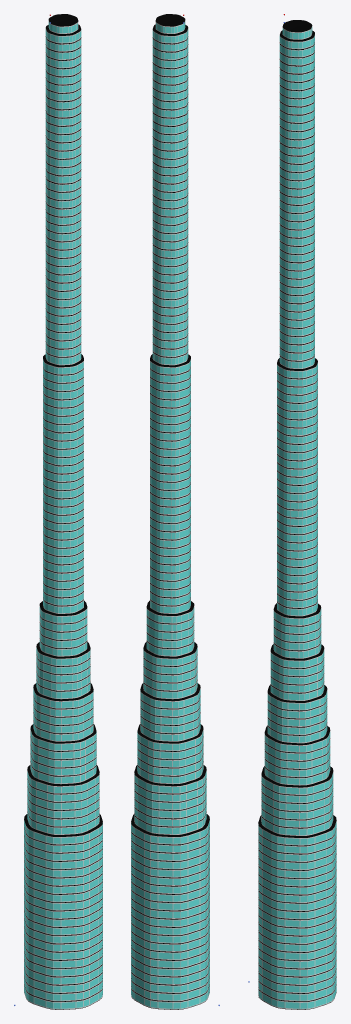
Rendered from Skyscraper2.fbx.
3 renders of one model, left to right at view 1: azimuth 30°, elevation 25°; view 2: azimuth 150°, elevation 25°; view 3: azimuth 330°, elevation 25°, orthographic.
Parts seen in each view (by area): view 1: Skyscraper; view 2: Skyscraper; view 3: Skyscraper.
Boxes of the visible parts, <box> form: Skyscraper: <box>24,14,102,1009</box>; Skyscraper: <box>131,14,209,1009</box>; Skyscraper: <box>258,20,336,1009</box>.
Size of the model in its own units: 3357 by 37454 by 2782.
